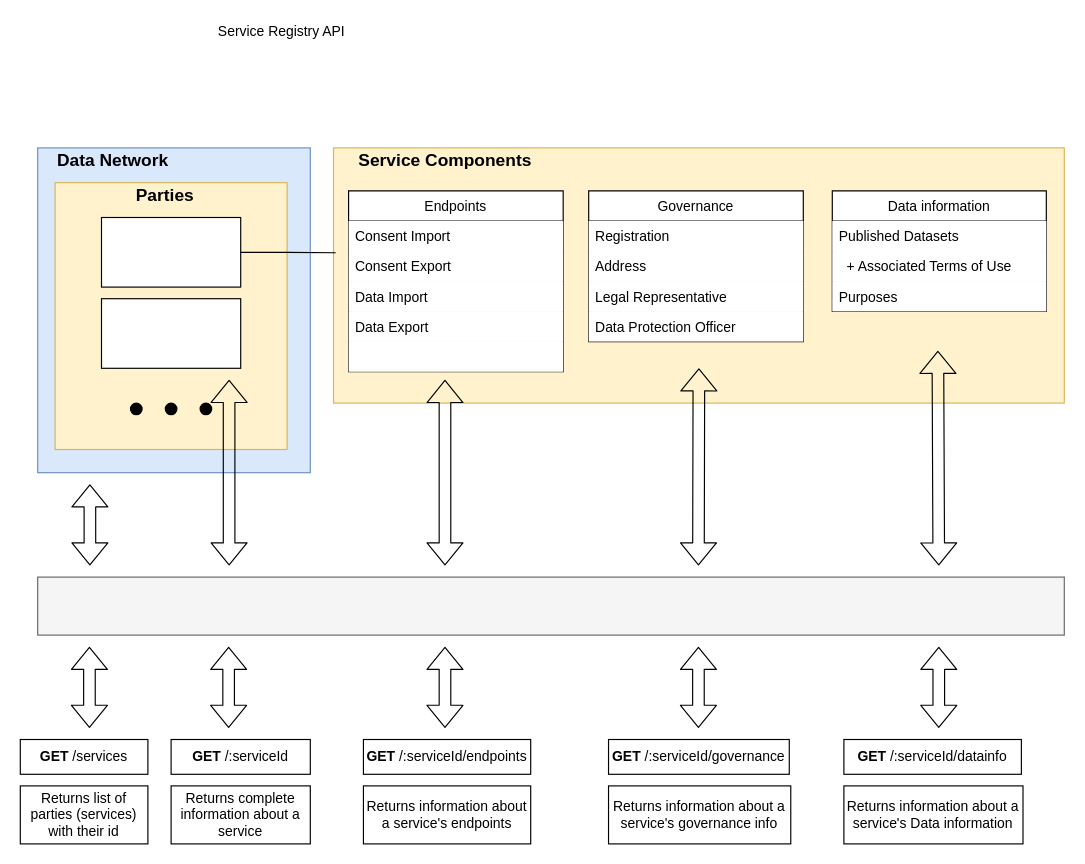
Image size: 1085x864. Some labels were removed from this diagram. The shapes that lost their labels are listed below. From the top down, each one's centre as x and y in pixels, then its label:
(170,251): SERVICE 1 Party of the network
(170,333): SERVICE 2 Party of the network
(455,356): Website URL
(550,605): API
